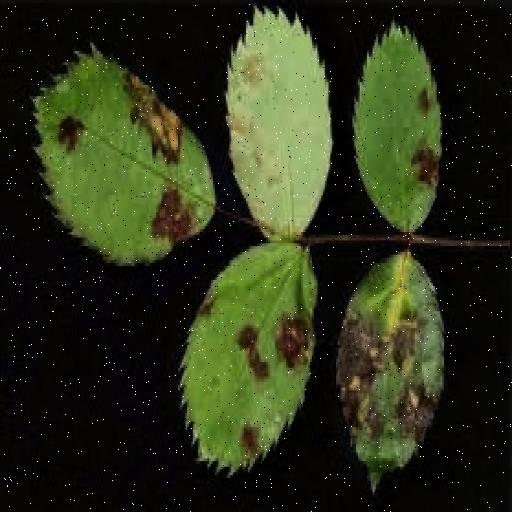downy_mildew: (35, 49, 214, 265), (182, 244, 317, 472), (338, 252, 444, 489), (226, 9, 332, 237), (353, 23, 442, 231)
